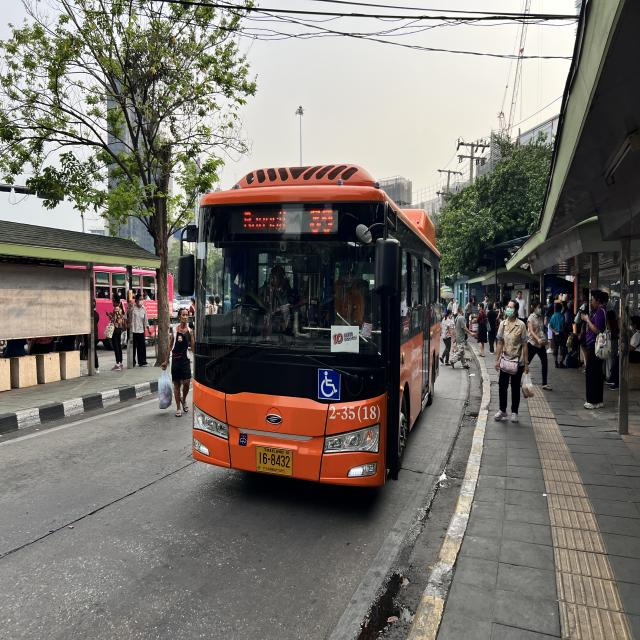Bus-Line-Number: (306, 207, 338, 237)
Destination-Sign-Normal: (230, 205, 304, 237)
TSB-Bus: (190, 166, 440, 491)
